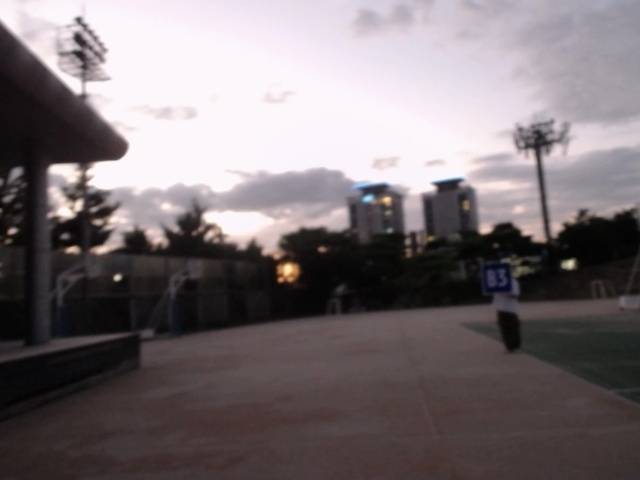delivery_b3: (481, 261, 514, 295)
